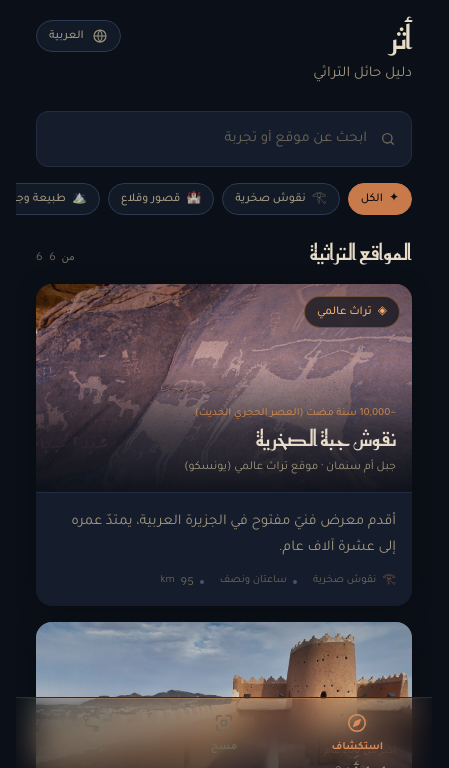
Scenario: شاشة الاستكشاف › تنتقل إلى تفاصيل الموقع عند الضغط على البطاقة
Click the heading "نقوش جبة الصخرية": click(326, 439) [256,422,396,455]
(page scrolled)
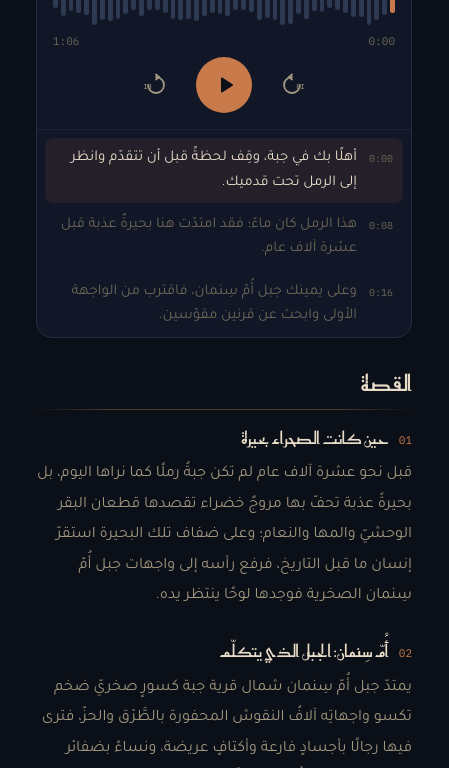
Expected: the heading "القصة" is shown, [361,367,412,400]
